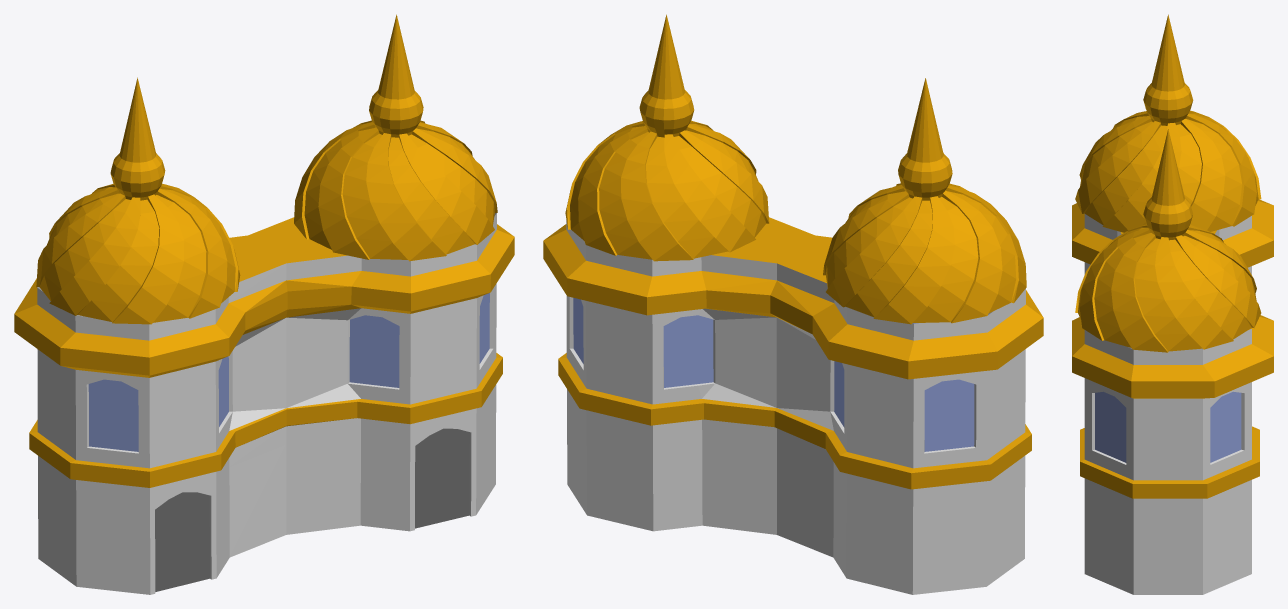
File: AetherpunkBuilding02.fbx
The picture shows the model from 3 angles, left to right: view 1: azimuth 30°, elevation 25°; view 2: azimuth 150°, elevation 25°; view 3: azimuth 270°, elevation 25°; orthographic projection. The views are drawn at different scales.
Parts seen in each view (by area): view 1: Building02; view 2: Building02; view 3: Building02.
Boxes of the visible parts, bbox=[...] form: Building02: bbox=[14, 14, 514, 594]; Building02: bbox=[543, 14, 1043, 594]; Building02: bbox=[1072, 14, 1273, 594].
Size of the model in its own units: 525 by 526 by 223.
